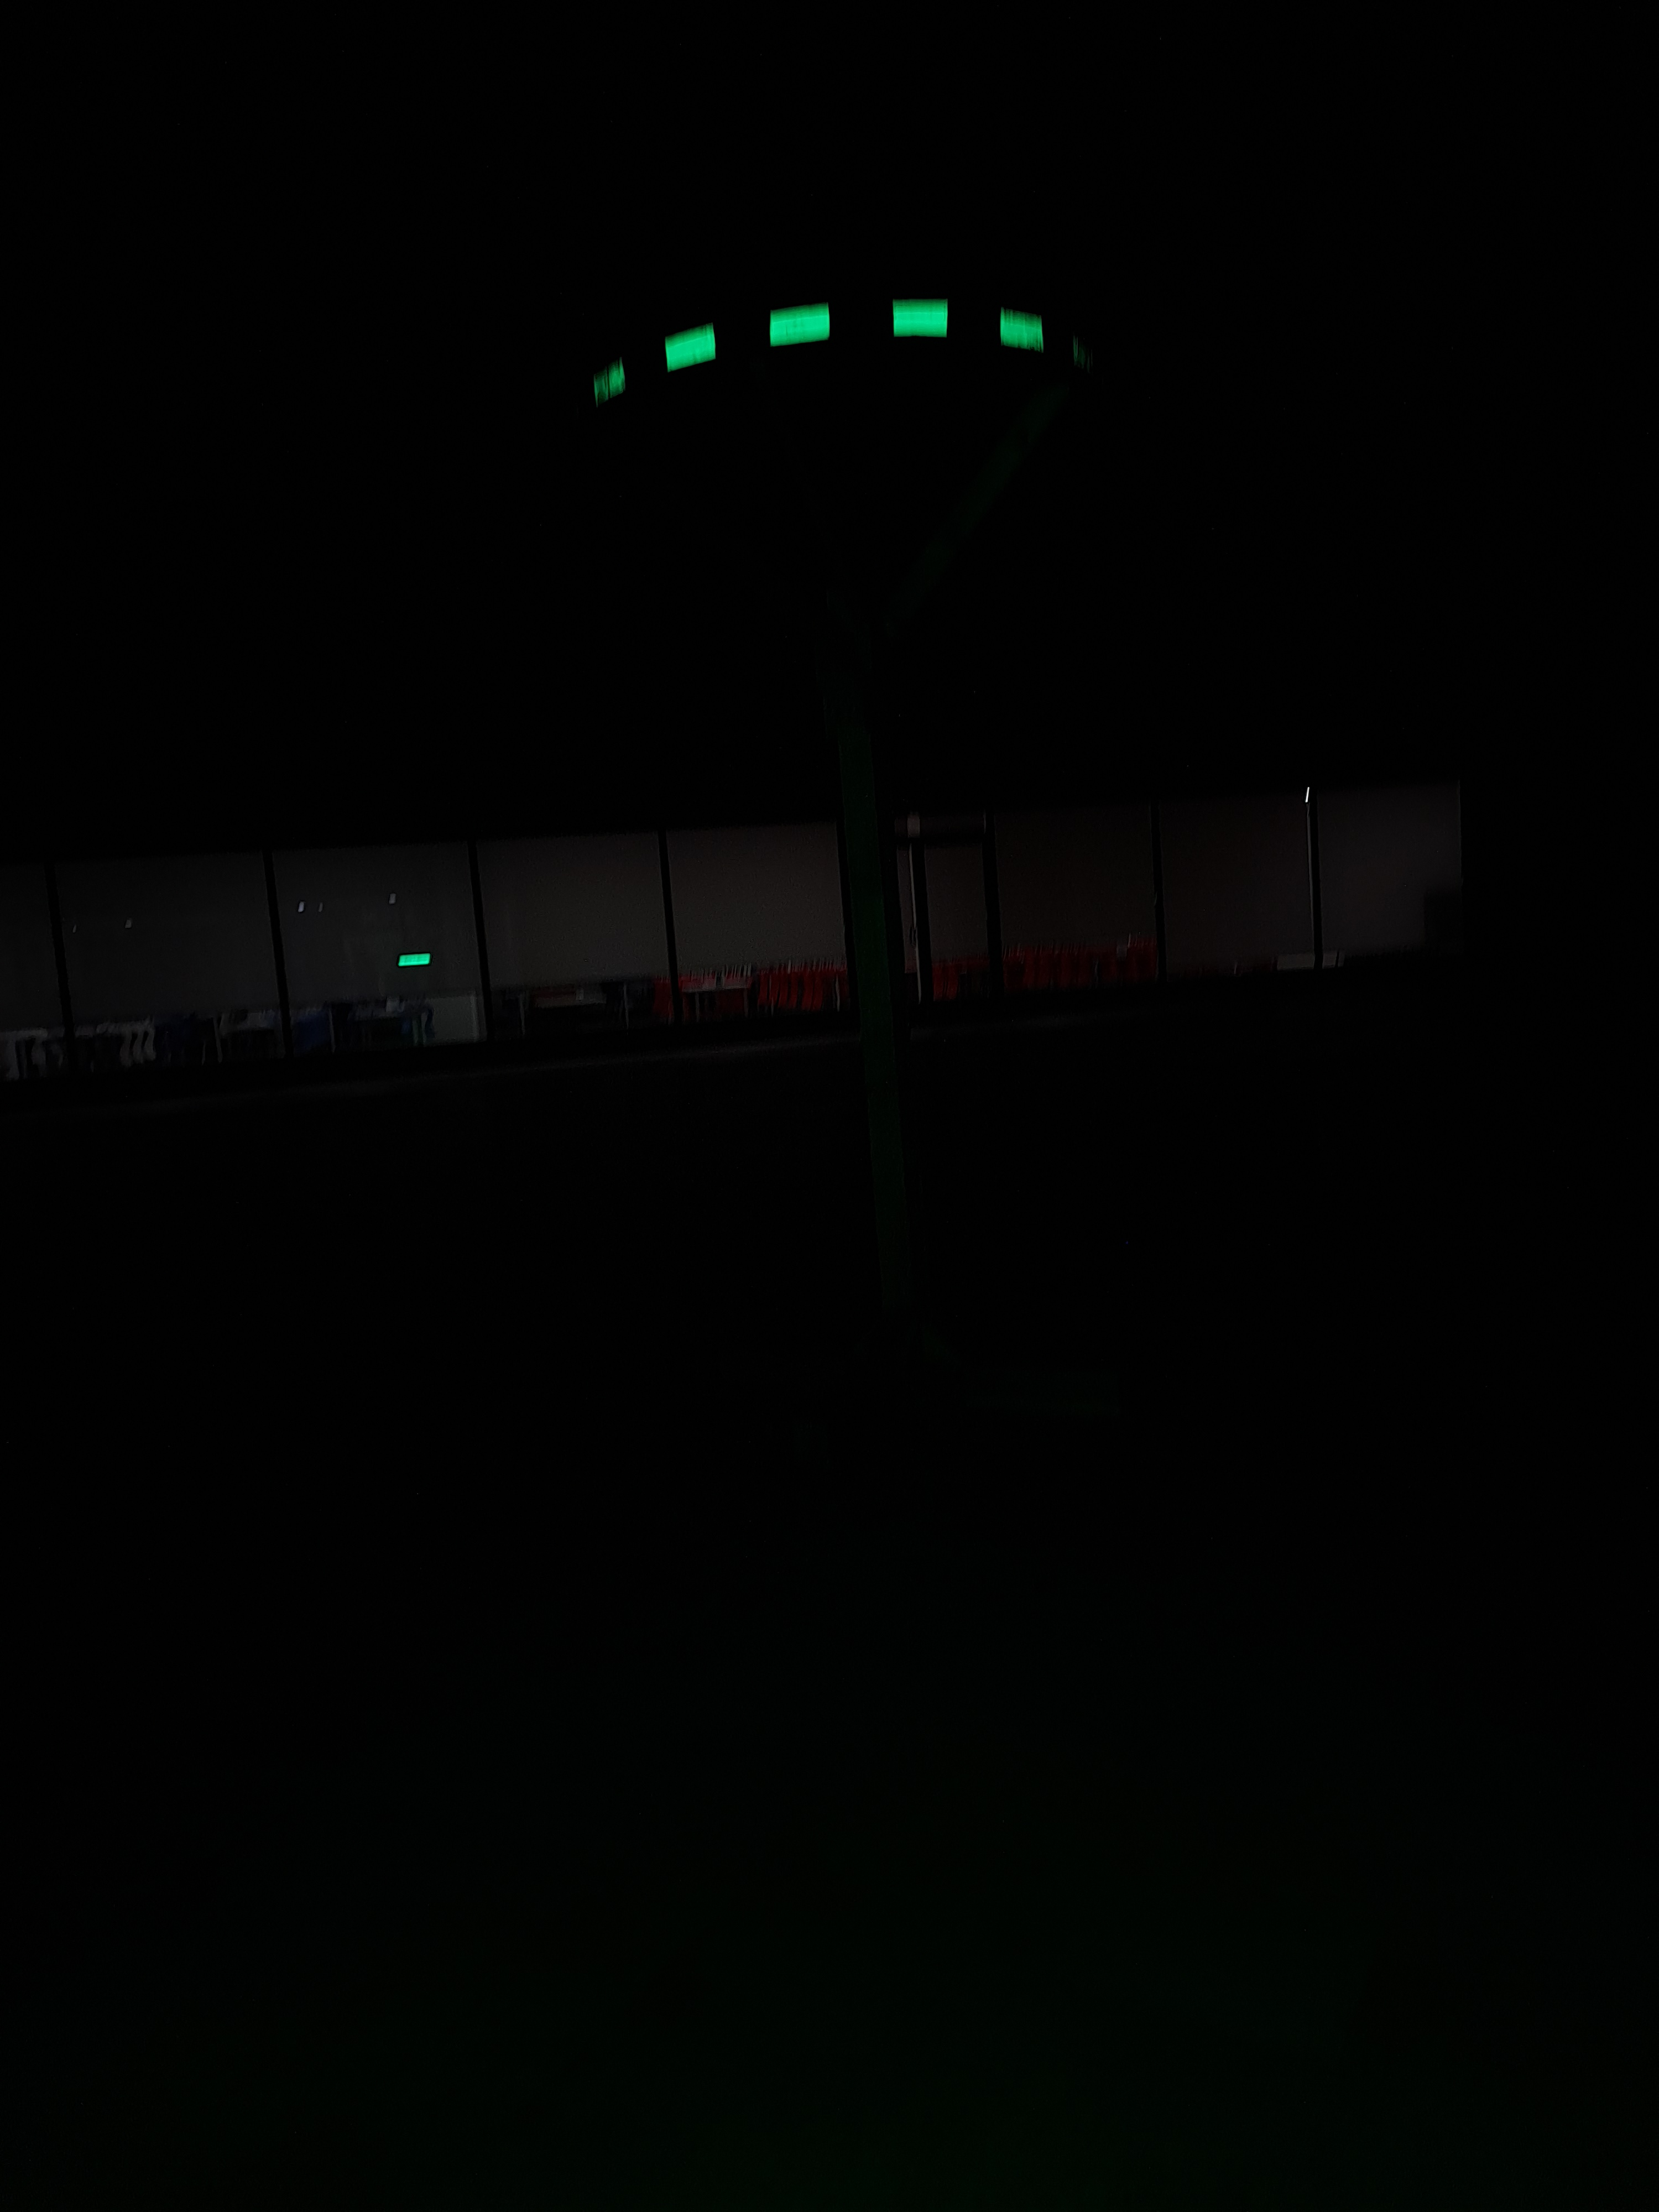hoop: (579, 291, 1054, 418)
